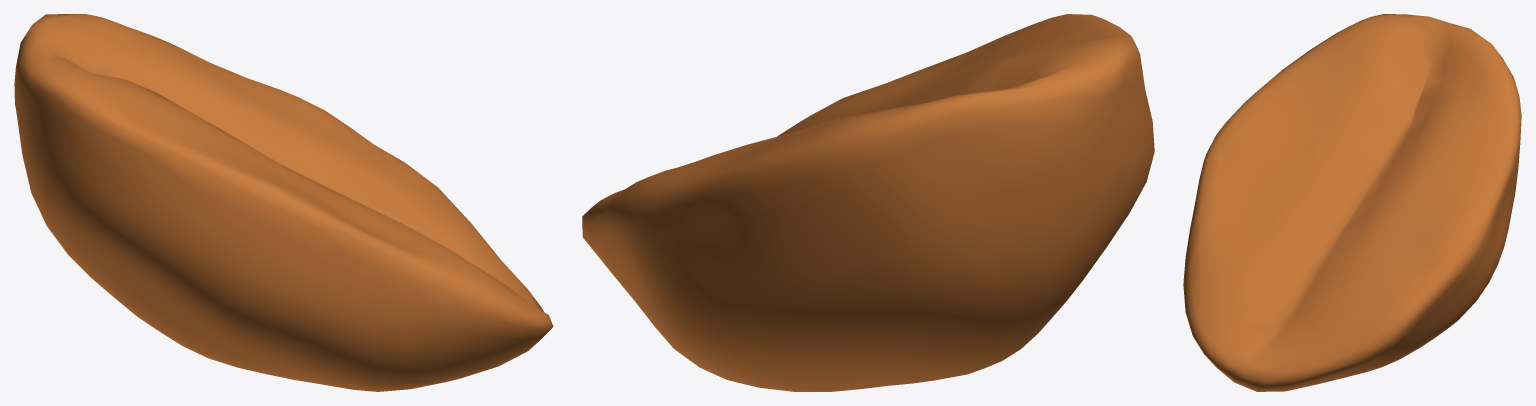
File: Mani2.fbx
3 views of the same model, side by side, from view 1: azimuth 30°, elevation 25°; view 2: azimuth 150°, elevation 25°; view 3: azimuth 270°, elevation 25° (orthographic). The views are drawn at different scales.
Parts seen in each view (by area): view 1: polySurface230; view 2: polySurface230; view 3: polySurface230.
Part boxes in pixels (<box>): polySurface230: <box>14,14,553,391</box>; polySurface230: <box>582,14,1154,391</box>; polySurface230: <box>1183,14,1521,391</box>.
Bounding box in the file's own units: 1.17 × 0.8584 × 1.04.
